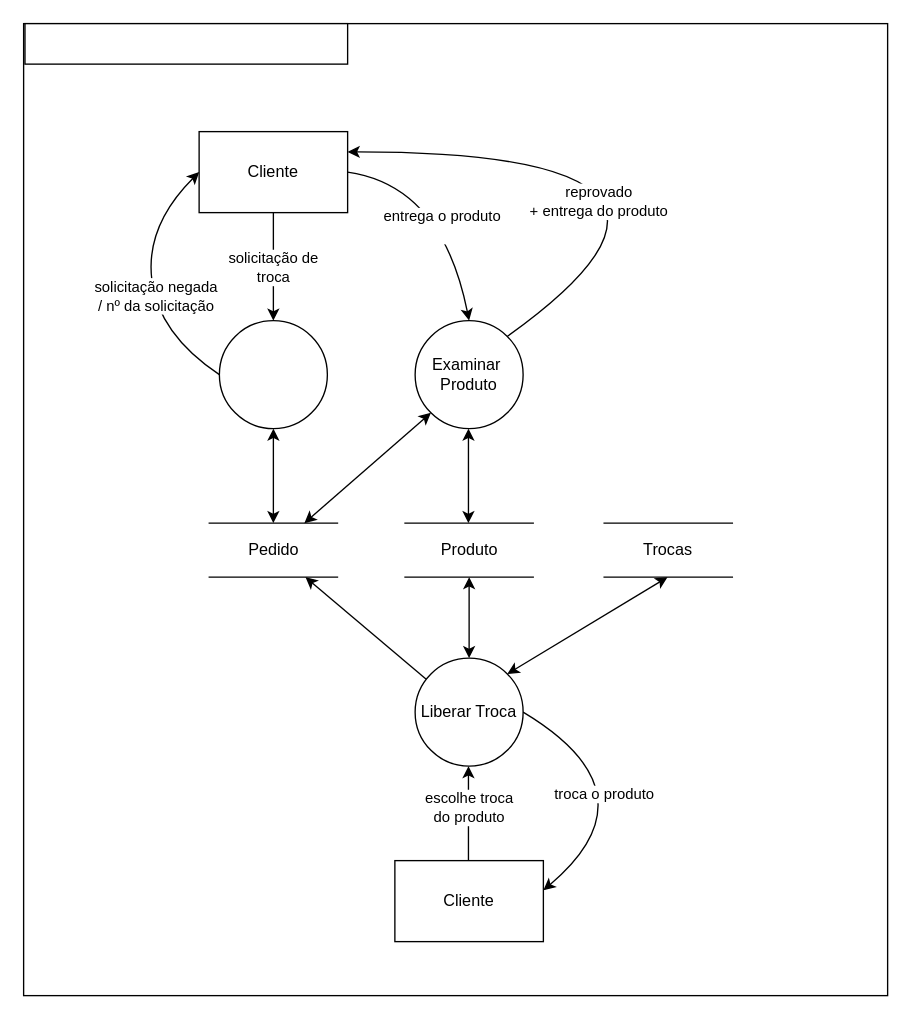
Some shapes in this 911 by 1019 pixel diagram are drawn without their labels. The centre of each missing label's shape, as x and y in pixels:
DFD - Tratar Troca do Produto Padrão: [186,43]
Verificar Solicitação: [272,374]
